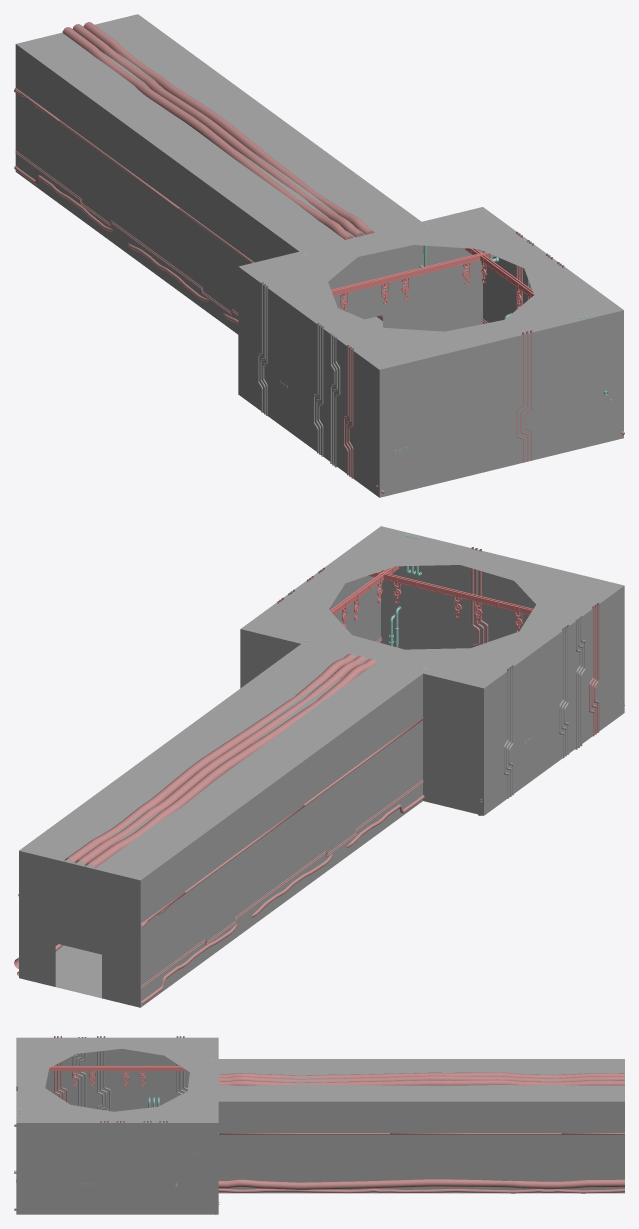
Rendered from CombinedBargeStart.fbx.
The picture shows the model from 3 angles, top to bottom: view 1: azimuth 30°, elevation 25°; view 2: azimuth 150°, elevation 25°; view 3: azimuth 270°, elevation 25°; orthographic projection. The views are drawn at different scales.
Parts seen in each view (by area): view 1: BargeStart_Wall, BargeCorr_Wall, BargeCorr_Ceiling, BargeStart_Ceiling, Pipe_Big_R3, Pipe_Big_R1, Pipe_Big_R2, Generator_Beam_1, Pipe_Vertical_Thin2, Pipe_Vertical_Thin1, Pipe_Vertical_Thin_5, Pipe_Big_L_Up (+4 smaller); view 2: BargeCorr_Wall (×2), BargeStart_Wall, BargeCorr_Ceiling, BargeStart_Ceiling, Pipe_Big_R3, Pipe_Big_R1, Pipe_Big_R2, BargeCorr_Floor, Generator_Beam_1, Pipe_Big_L_Up, Pipe_Horizontal_Small_L1, Pipe_L1 (+5 smaller); view 3: BargeCorr_Wall, BargeStart_Wall, BargeCorr_Ceiling, BargeStart_Ceiling, Pipe_Big_R, Pipe_Big_R2, Pipe_Big_R1, Pipe_Big_R3, Pipe_Big_L1, Generator_Beam_2, Pipe_L, Pipe_Vertical_Thin1 (+1 smaller).
Boxes of the visible parts, <box> form: BargeStart_Wall: <box>238,245,623,497</box>; BargeCorr_Wall: <box>15,44,382,334</box>; BargeCorr_Ceiling: <box>16,14,421,251</box>; BargeStart_Ceiling: <box>238,207,623,369</box>; Pipe_Big_R3: <box>62,27,353,239</box>; Pipe_Big_R1: <box>72,24,364,237</box>; Pipe_Big_R2: <box>83,22,374,234</box>; Generator_Beam_1: <box>331,252,495,311</box>; Pipe_Vertical_Thin2: <box>330,333,340,467</box>; Pipe_Vertical_Thin1: <box>313,323,323,456</box>; Pipe_Vertical_Thin_5: <box>343,345,353,478</box>; Pipe_Big_L_Up: <box>14,166,238,323</box>; BargeCorr_Wall (×2): <box>19,674,422,1007</box>; BargeStart_Wall: <box>240,565,624,815</box>; BargeCorr_Ceiling: <box>19,644,422,880</box>; BargeStart_Ceiling: <box>241,526,624,688</box>; Pipe_Big_R3: <box>85,658,376,868</box>; Pipe_Big_R1: <box>75,655,365,865</box>; Pipe_Big_R2: <box>64,653,355,863</box>; BargeCorr_Floor: <box>55,945,101,998</box>; Generator_Beam_1: <box>368,571,533,632</box>; Pipe_Big_L_Up: <box>141,795,424,1005</box>; Pipe_Horizontal_Small_L1: <box>141,780,423,988</box>; Pipe_L1: <box>141,717,423,925</box>; BargeCorr_Wall: <box>218,1101,624,1193</box>; BargeStart_Wall: <box>16,1049,218,1214</box>; BargeCorr_Ceiling: <box>218,1059,624,1101</box>; BargeStart_Ceiling: <box>16,1037,218,1122</box>; Pipe_Big_R: <box>218,1179,624,1189</box>; Pipe_Big_R2: <box>219,1079,624,1085</box>; Pipe_Big_R1: <box>219,1075,624,1081</box>; Pipe_Big_R3: <box>219,1072,624,1077</box>; Pipe_Big_L1: <box>218,1188,624,1193</box>; Generator_Beam_2: <box>48,1066,187,1086</box>; Pipe_L: <box>219,1133,624,1134</box>; Pipe_Vertical_Thin1: <box>97,1036,110,1110</box>.
Size of the model in its own units: 2023 by 1057 by 6043.
